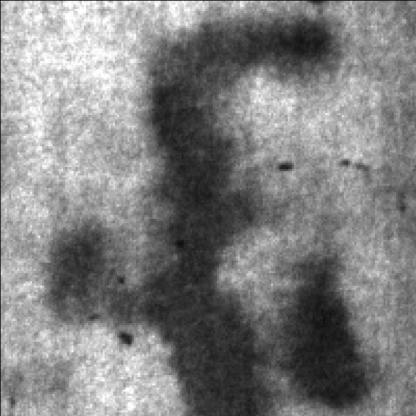patches: (141, 12, 335, 414), (268, 248, 376, 414), (39, 212, 150, 333)
